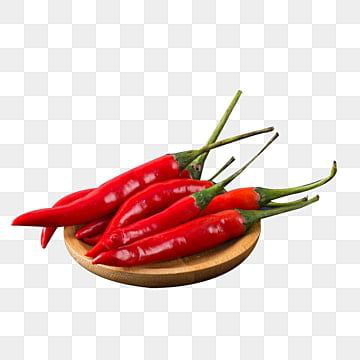Cabai: (42, 109, 326, 263)
